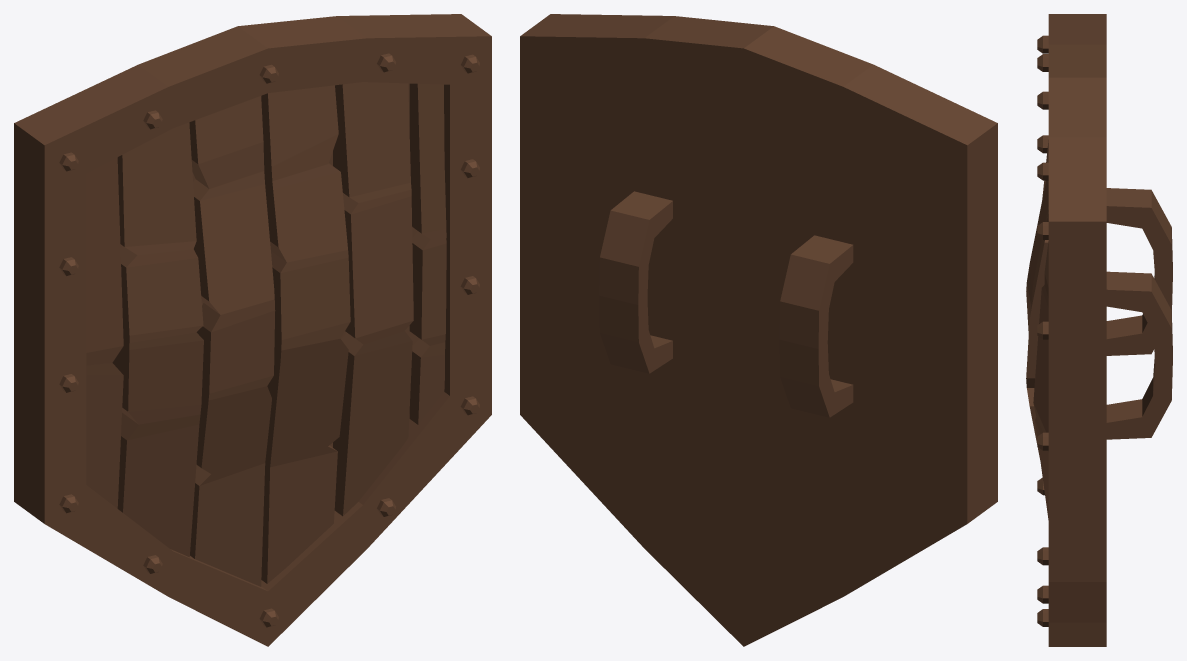
Rendered from Shield_Heater_2.glb.
The picture shows the model from 3 angles, left to right: view 1: azimuth 30°, elevation 25°; view 2: azimuth 150°, elevation 25°; view 3: azimuth 270°, elevation 25°; orthographic projection. The views are drawn at different scales.
Bounding box in the file's own units: 2.01 × 2.56 × 0.5987.
